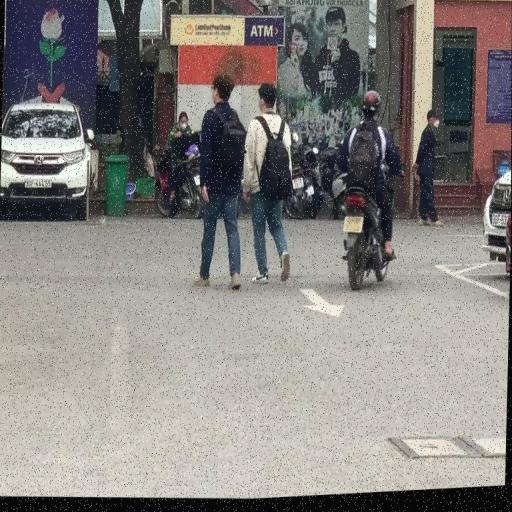bike: (340, 89, 406, 300)
numberplate: (342, 218, 365, 241), (291, 176, 305, 194)
with helmet: (361, 92, 382, 121)
